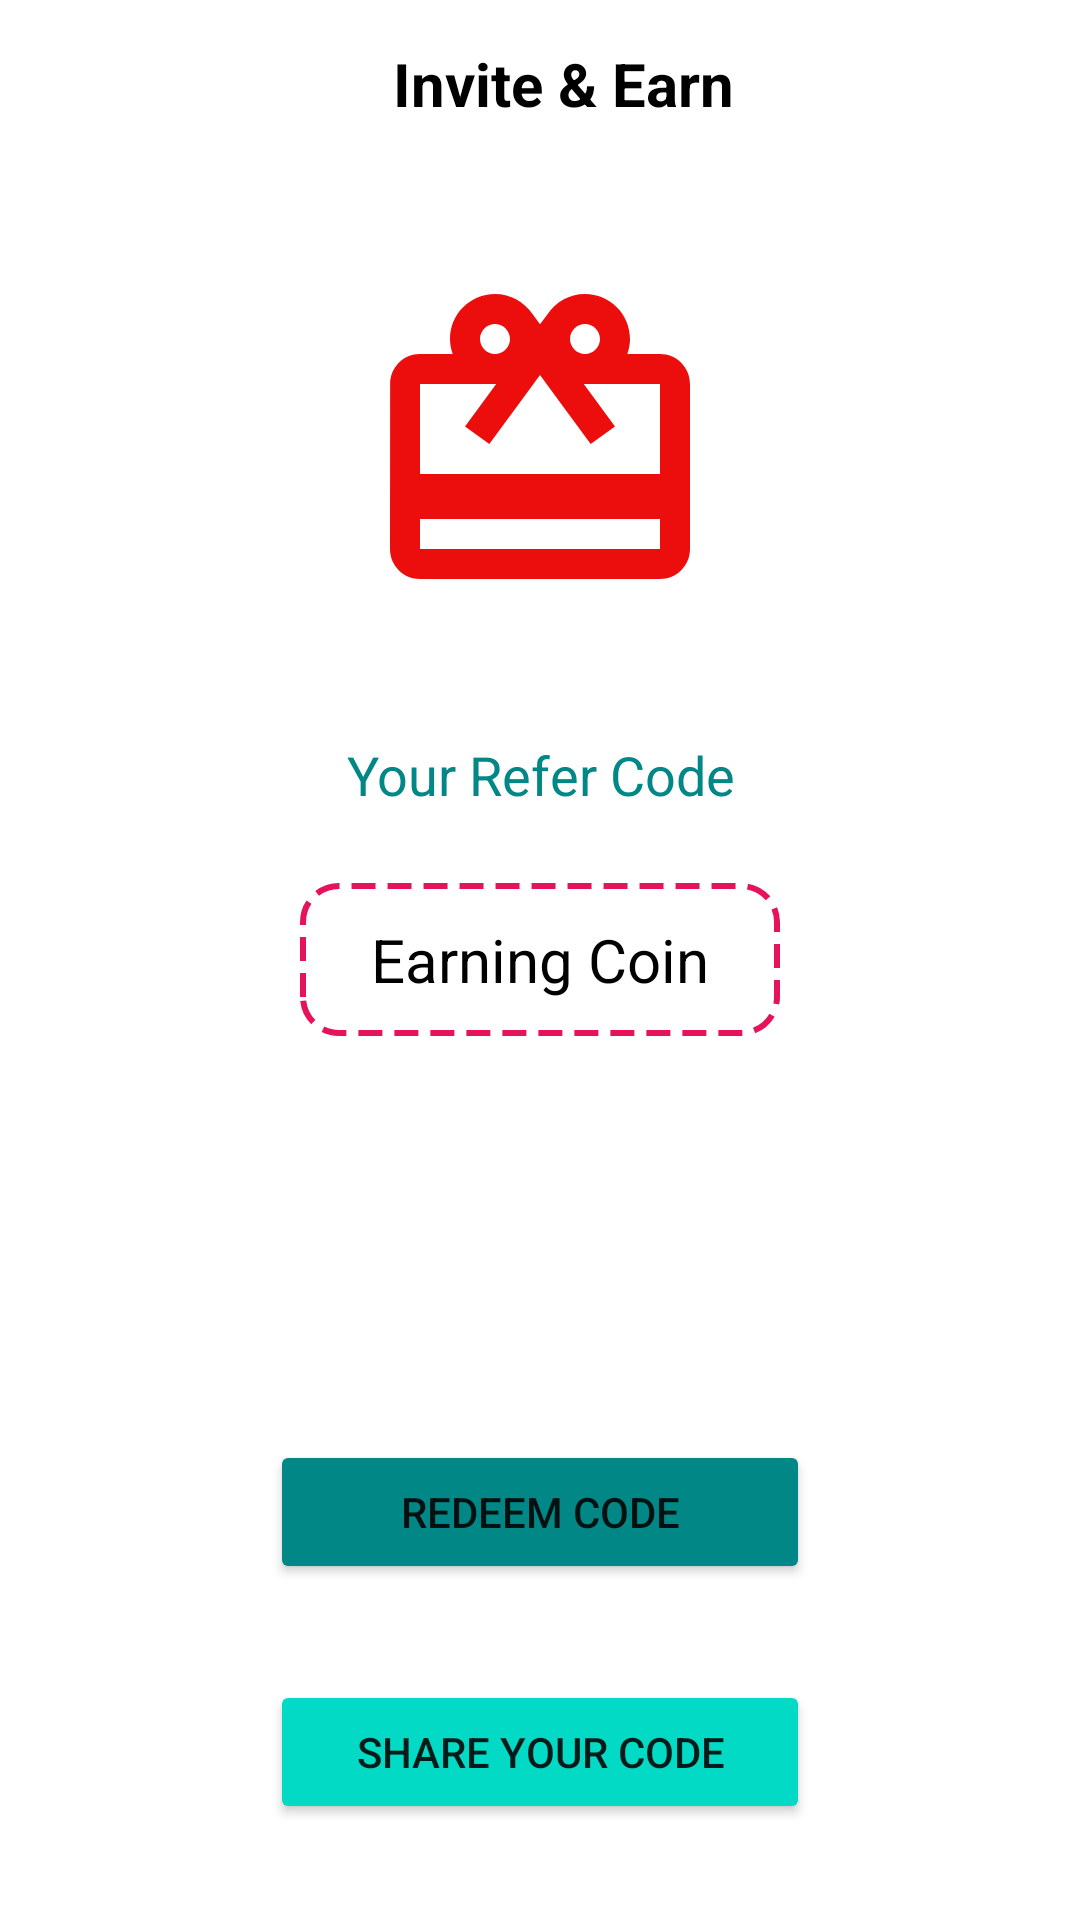

Point at icon controls on the screen. Image size 1080px×1920px, points as (x=x, y=y).
giftcard: (x=540, y=436)
